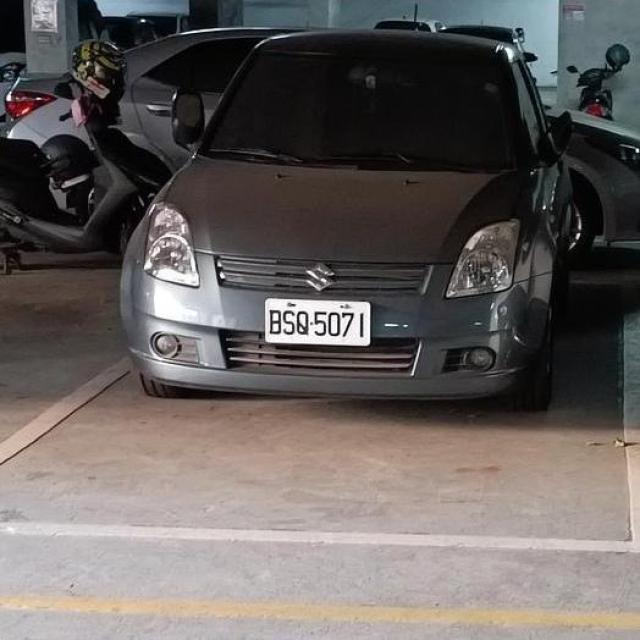W: (260, 292, 378, 350)
